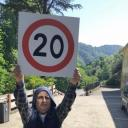speed_limit_20: (22, 14, 76, 76)
